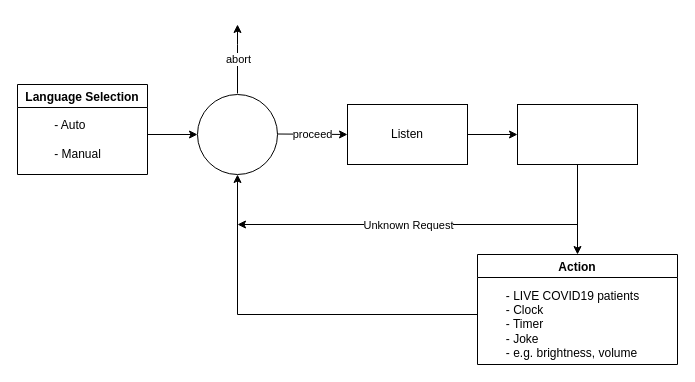
Some shapes in this 695 by 382 pixel diagram are drawn without their labels. The shapes that lost their labels are listed below. From the top down, each one's centre as x and y in pixels, then its label:
At (237,134): "Standby".
At (577,134): "Analysis".
